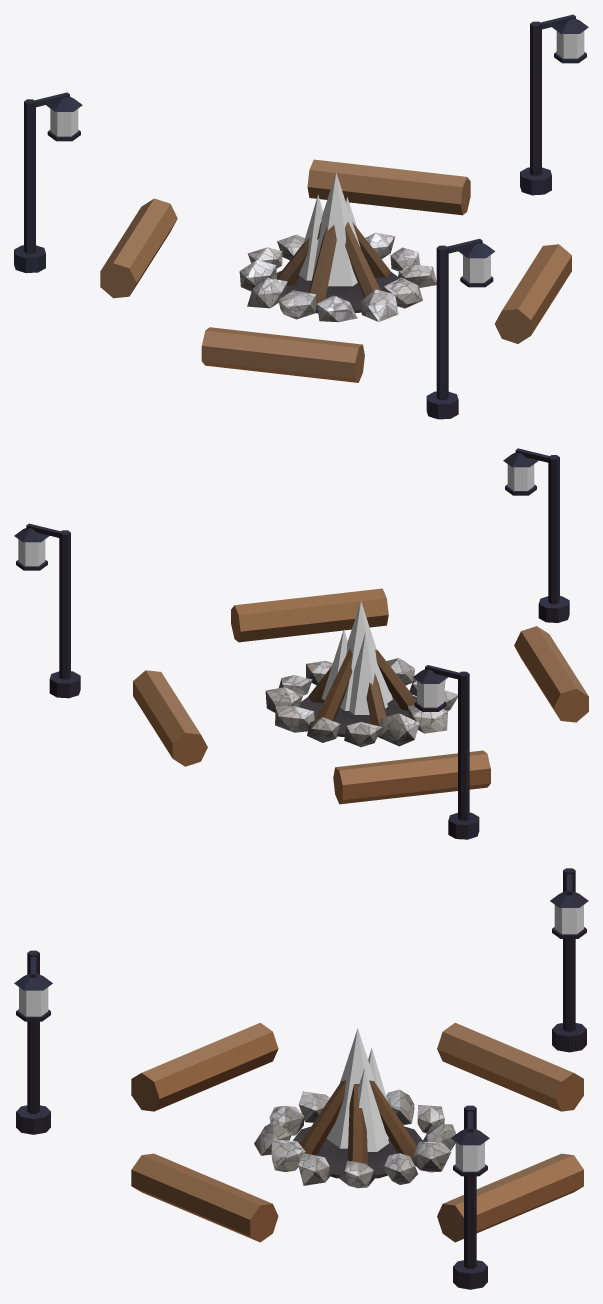
Rendered from hub_camp.fbx.
The picture shows the model from 3 angles, top to bottom: view 1: azimuth 30°, elevation 25°; view 2: azimuth 150°, elevation 25°; view 3: azimuth 270°, elevation 25°; orthographic projection. The views are drawn at different scales.
Parts seen in each view (by area): view 1: hub_camp_body, hub_camp_body_glow, hub_camp_body4_glow, hub_camp_body3_glow; view 2: hub_camp_body, hub_camp_body4_glow, hub_camp_body3_glow, hub_camp_body_glow, hub_camp_body2_glow; view 3: hub_camp_body, hub_camp_body4_glow, hub_camp_body_glow, hub_camp_body2_glow.
Part boxes in pixels (x1=…): hub_camp_body: x1=14, y1=14, x2=588, y2=419; hub_camp_body_glow: x1=312, y1=172, x2=360, y2=286; hub_camp_body4_glow: x1=50, y1=31, x2=584, y2=282; hub_camp_body3_glow: x1=299, y1=194, x2=323, y2=280; hub_camp_body: x1=14, y1=448, x2=588, y2=839; hub_camp_body4_glow: x1=18, y1=464, x2=534, y2=707; hub_camp_body3_glow: x1=349, y1=632, x2=387, y2=714; hub_camp_body_glow: x1=340, y1=601, x2=392, y2=710; hub_camp_body2_glow: x1=322, y1=629, x2=347, y2=700; hub_camp_body: x1=14, y1=868, x2=588, y2=1289; hub_camp_body4_glow: x1=19, y1=905, x2=583, y2=1171; hub_camp_body_glow: x1=326, y1=1028, x2=388, y2=1148; hub_camp_body2_glow: x1=347, y1=1067, x2=388, y2=1151.
Size of the model in its own units: 1822 by 566 by 1642.
Materials: 2 (1 with a texture image).
